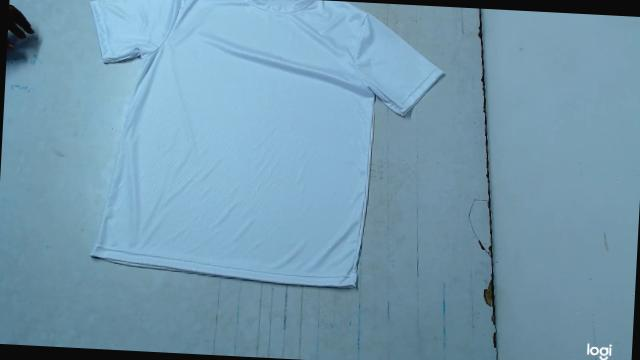new-garment: (90, 0, 442, 286)
